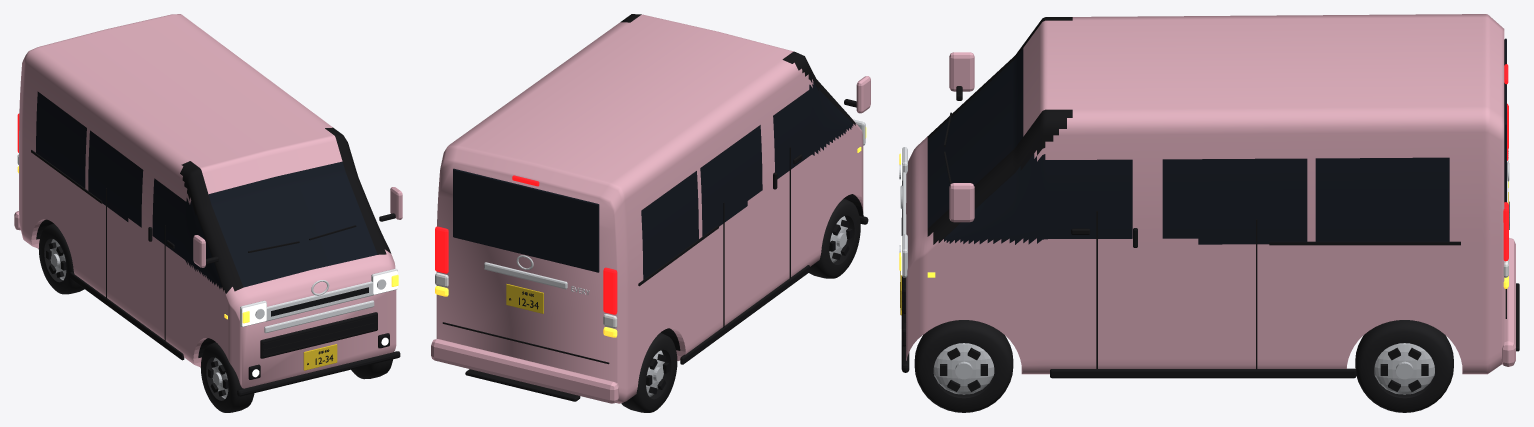
File: van_every.glb
3 renders of one model, left to right at view 1: azimuth 30°, elevation 25°; view 2: azimuth 150°, elevation 25°; view 3: azimuth 270°, elevation 25°, orthographic. The views are drawn at different scales.
Visible parts, largest first — view 1: van_every; view 2: van_every; view 3: van_every.
Part boxes in pixels (<box>): van_every: <box>14,14,402,412</box>; van_every: <box>431,14,870,412</box>; van_every: <box>899,14,1519,412</box>.
Bounding box in the file's own units: 1.81 × 1.89 × 3.52.
